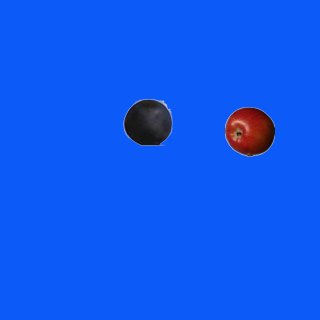Apple Braeburn: (224, 106, 274, 156)
Grape Blue: (122, 96, 172, 146)
